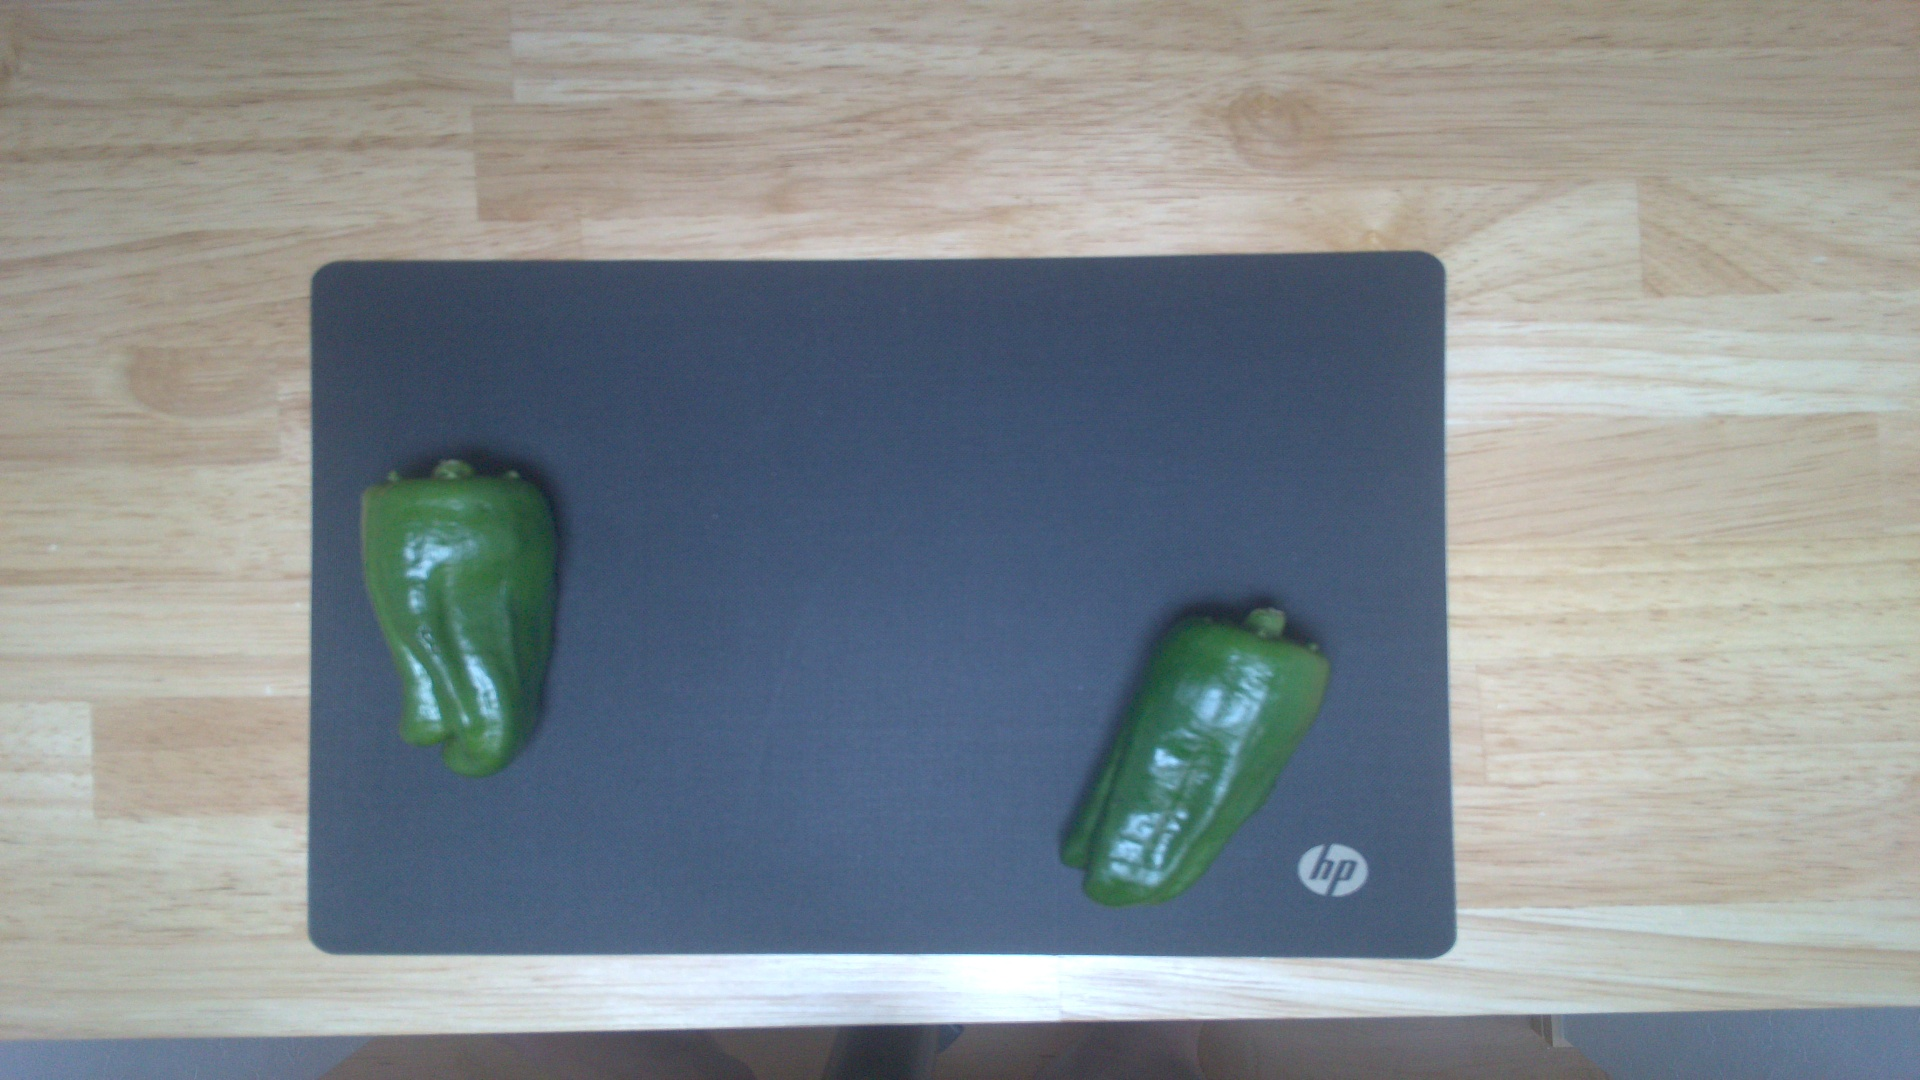Piman: (1051, 597, 1332, 913), (357, 458, 568, 782)
